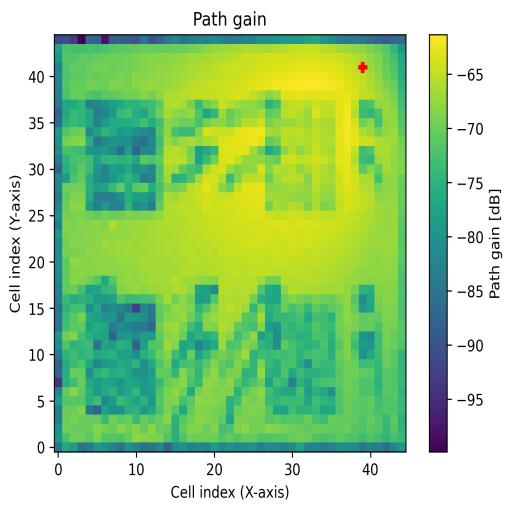Concrete: (266, 99, 335, 211)
Glass: (85, 100, 156, 209)
Metal: (267, 304, 337, 416)
Wood: (86, 305, 158, 419)
